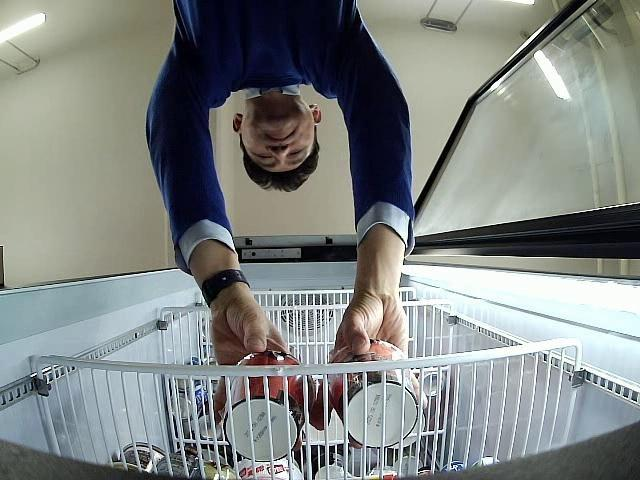02_shinRamen_S: (222, 351, 316, 462), (329, 341, 419, 448)
